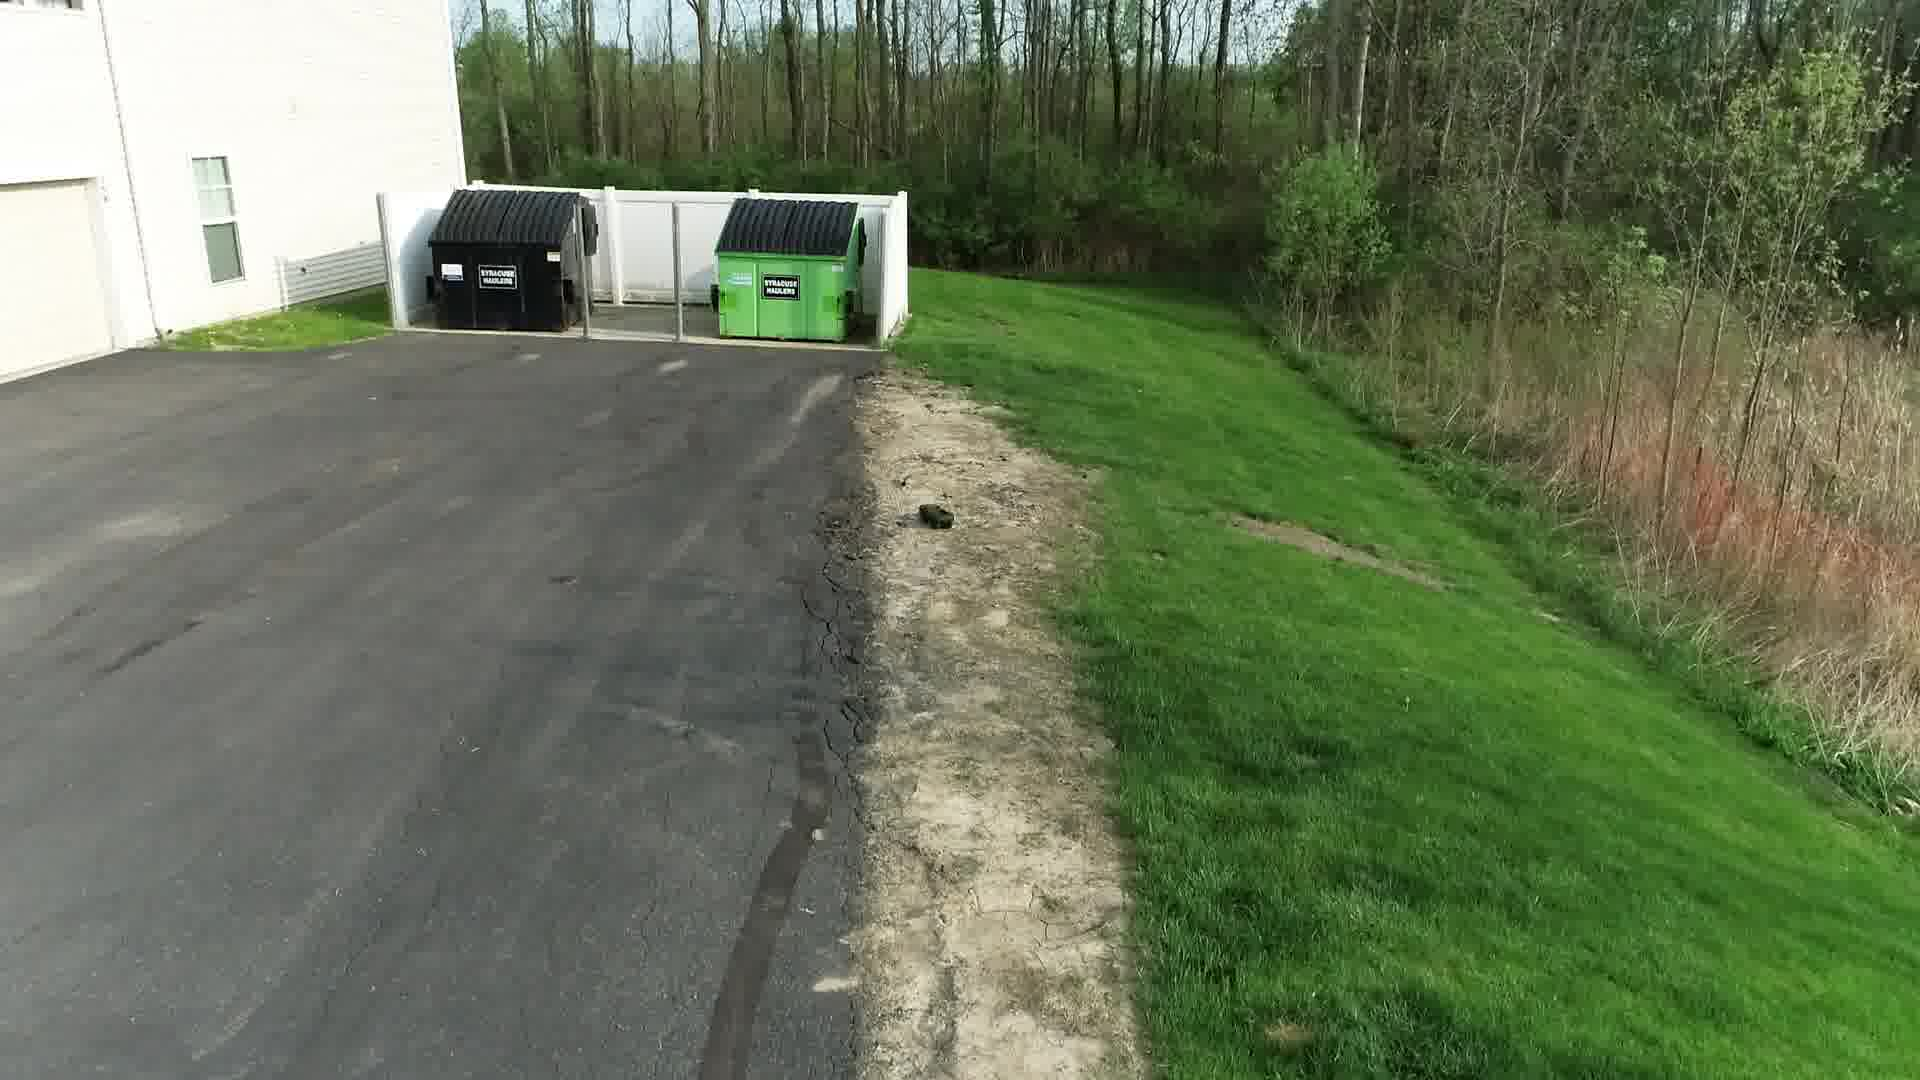transporter9: (918, 502, 957, 530)
